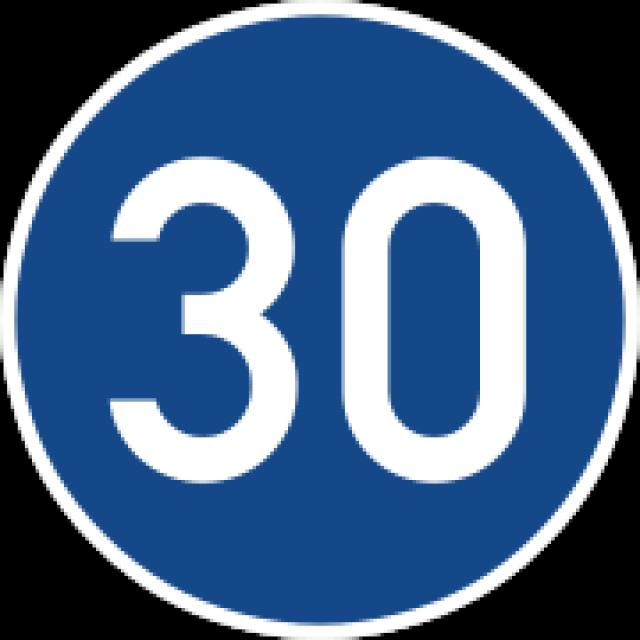Speed Limit -30-: (89, 147, 531, 486), (92, 148, 530, 486)
